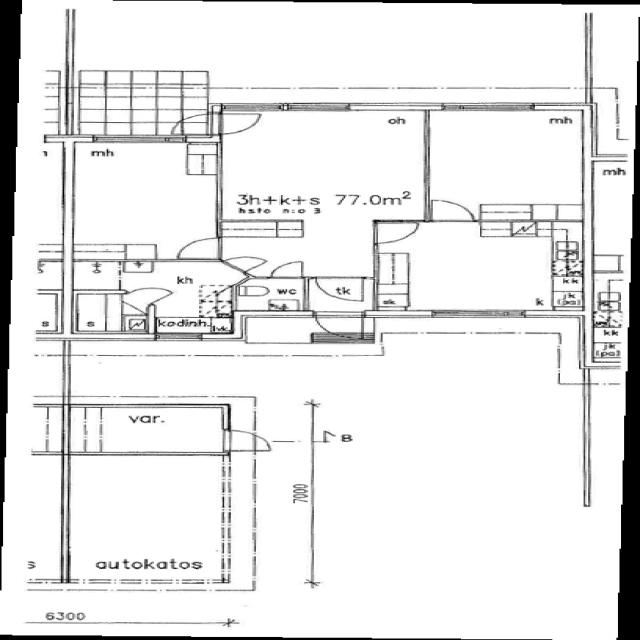door: (311, 309, 368, 339), (312, 276, 372, 304), (214, 108, 265, 136), (426, 197, 479, 223), (218, 429, 276, 452), (371, 220, 422, 246), (174, 235, 224, 260), (124, 286, 170, 305), (267, 260, 309, 280), (227, 255, 269, 273)
window: (84, 134, 184, 146), (430, 308, 528, 320), (446, 102, 534, 114), (348, 102, 436, 114), (283, 102, 351, 114), (156, 333, 202, 342), (196, 334, 237, 342)
zone: (217, 109, 429, 223), (375, 221, 584, 315), (65, 141, 223, 260), (426, 108, 588, 221), (128, 261, 237, 333), (66, 406, 229, 454), (71, 291, 144, 335), (236, 277, 308, 312), (588, 322, 629, 368), (70, 259, 124, 291), (311, 276, 370, 304)
